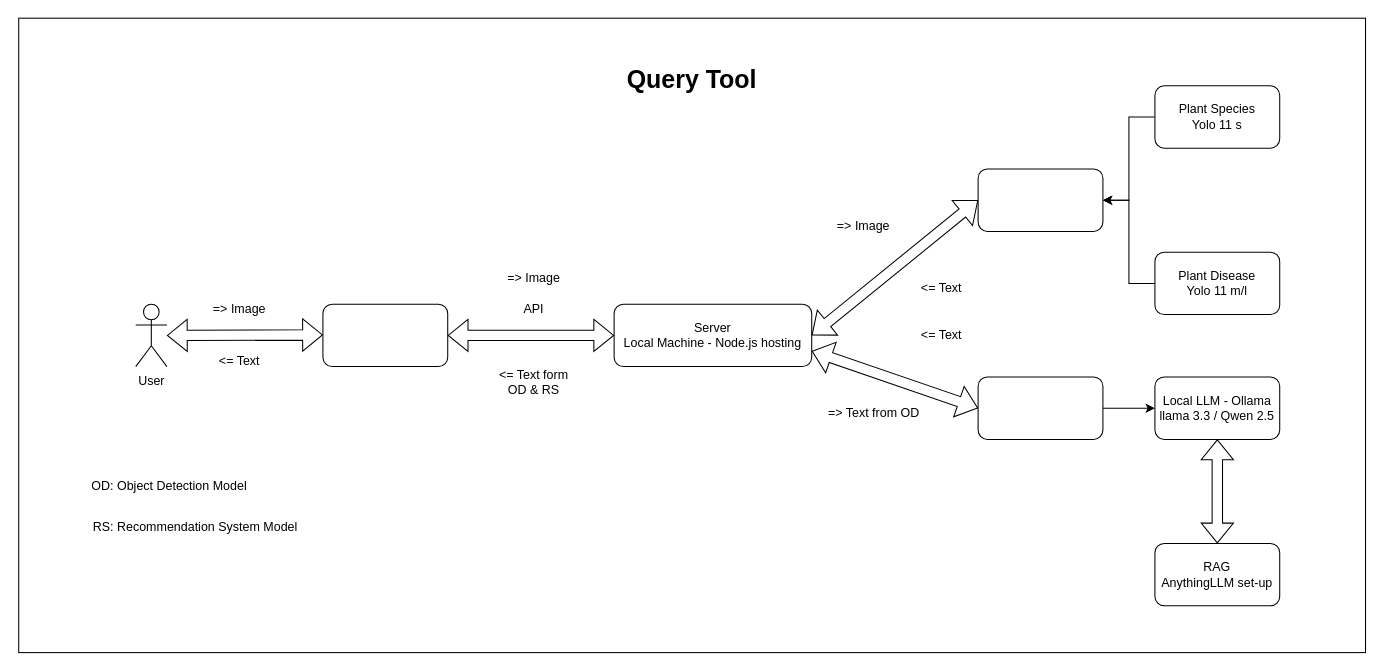
Some shapes in this 1383 by 671 pixel diagram are drawn without their labels. The shapes that lost their labels are listed below. From the top down, each one's centre as x and y in pixels, then its label:
At (x=1040, y=199): "Object Detection".
At (x=385, y=335): "React.js Website".
At (x=1040, y=407): "Recommendation System".
